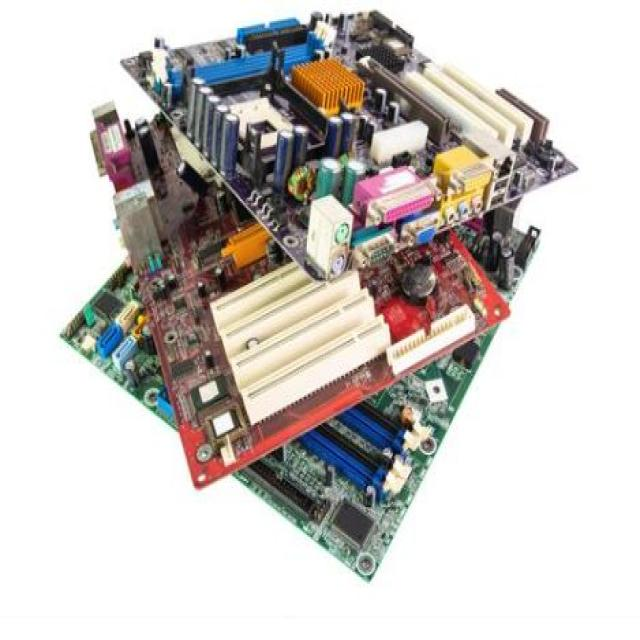electronic: (59, 5, 577, 582)
